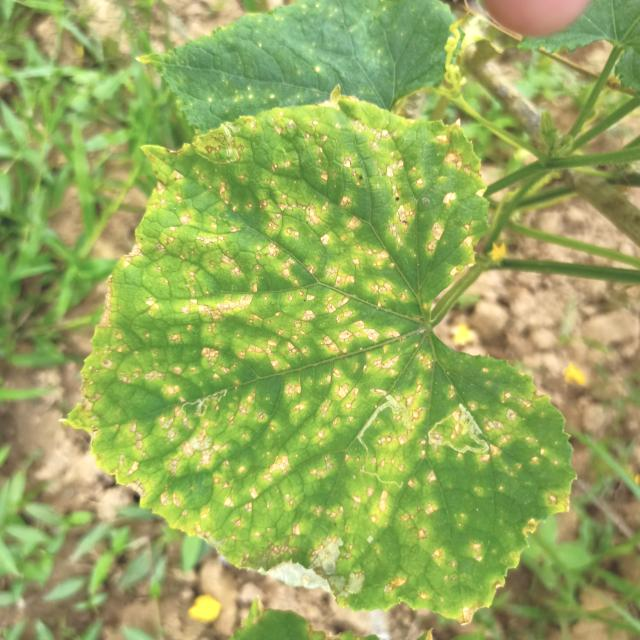disease_cucumber: (76, 120, 566, 610)
